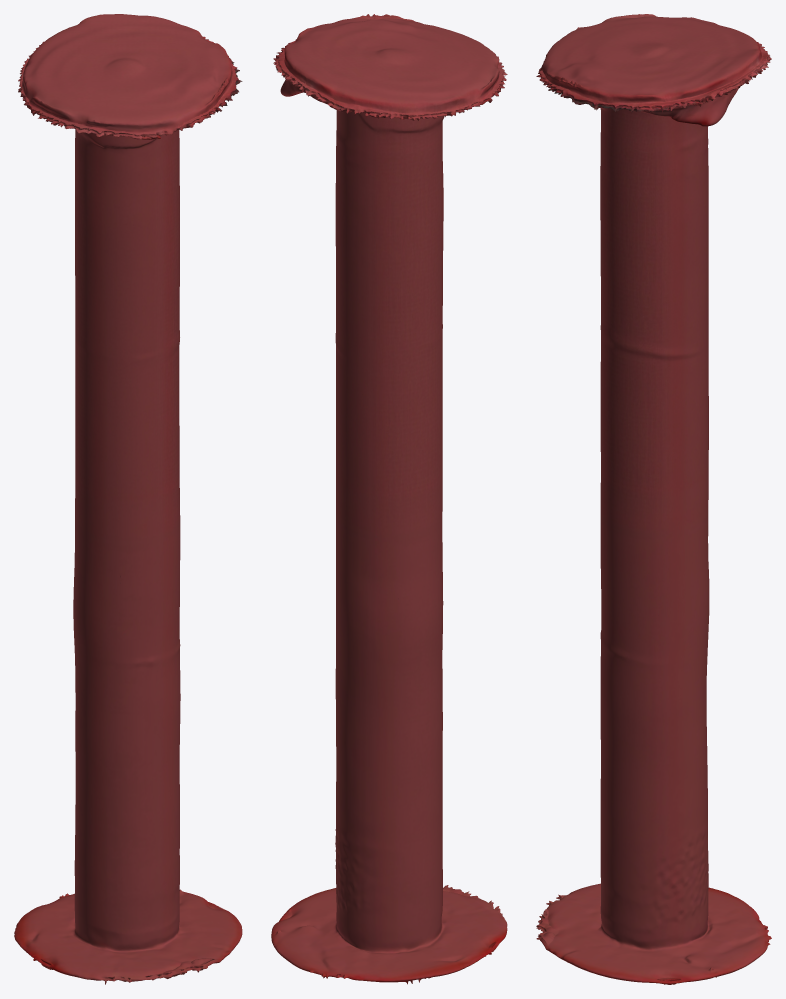
File: oeuvre-01.glb
3 renders of one model, left to right at view 1: azimuth 30°, elevation 25°; view 2: azimuth 150°, elevation 25°; view 3: azimuth 270°, elevation 25°, orthographic.
Visible parts, largest first — view 1: tripo_node_b823c136-8ac1-4eca-b603-0c3a0a489ff3; view 2: tripo_node_b823c136-8ac1-4eca-b603-0c3a0a489ff3; view 3: tripo_node_b823c136-8ac1-4eca-b603-0c3a0a489ff3.
Boxes of the visible parts, x1,y1,x2,y2 form: tripo_node_b823c136-8ac1-4eca-b603-0c3a0a489ff3: (14,14,242,984); tripo_node_b823c136-8ac1-4eca-b603-0c3a0a489ff3: (271,14,507,984); tripo_node_b823c136-8ac1-4eca-b603-0c3a0a489ff3: (536,14,771,984).
Size of the model in its own units: 0.2318 by 0.9823 by 0.2346.
1 material, 1 textured.
